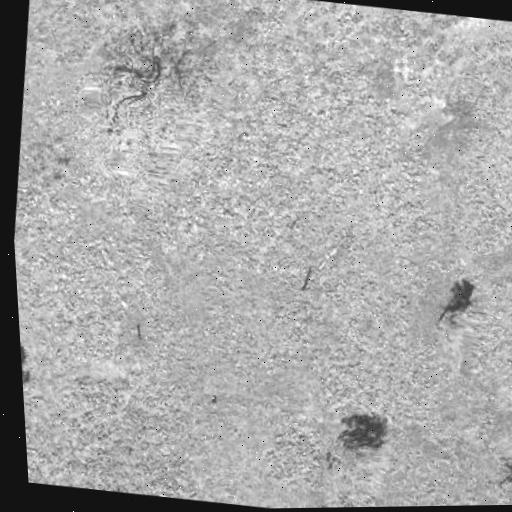tree-top: (90, 91, 181, 170), (333, 410, 392, 466), (433, 284, 484, 344), (22, 364, 41, 412)
